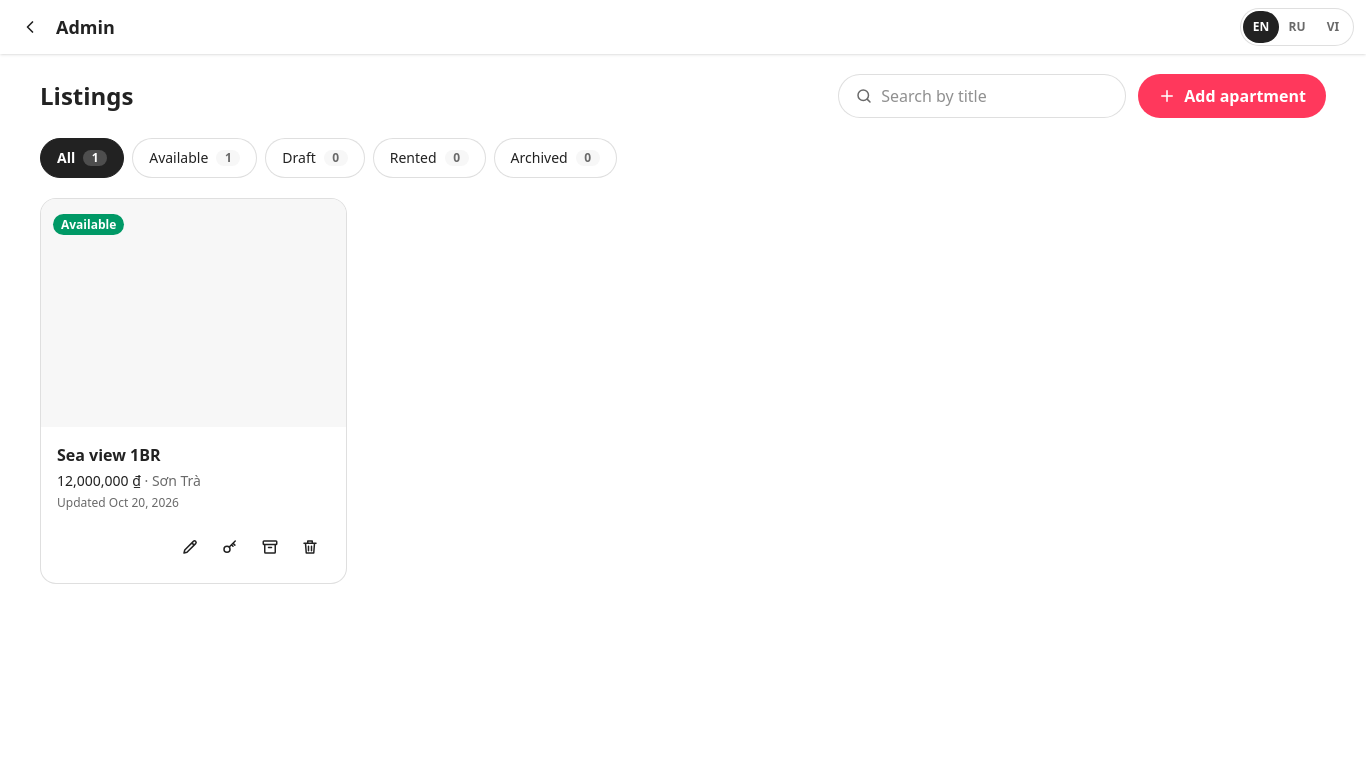
it: dashboard › changes availability with confirmation
Click the button named "Mark as rented".
click(230, 547)  # box [210,527,250,567]
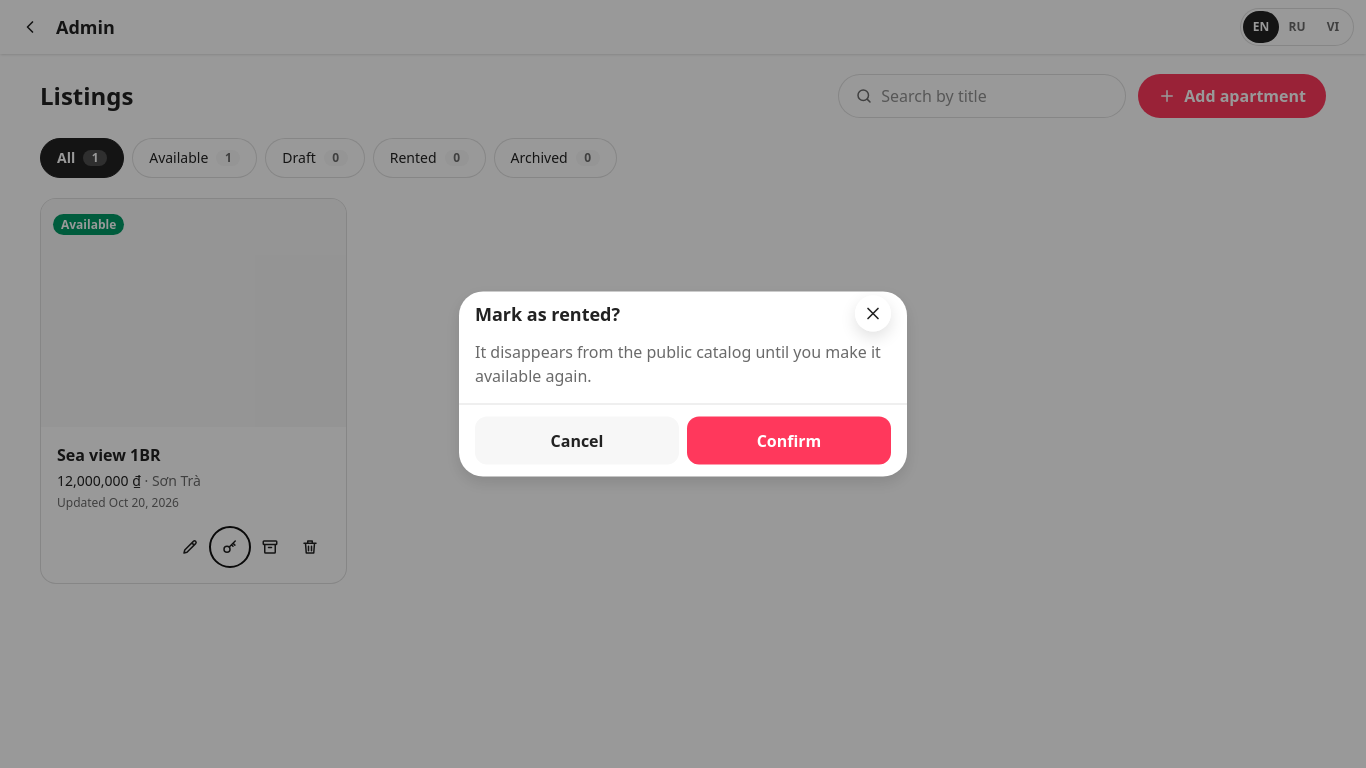
Click the button "Confirm".
click(789, 440)  # box [687,416,891,464]
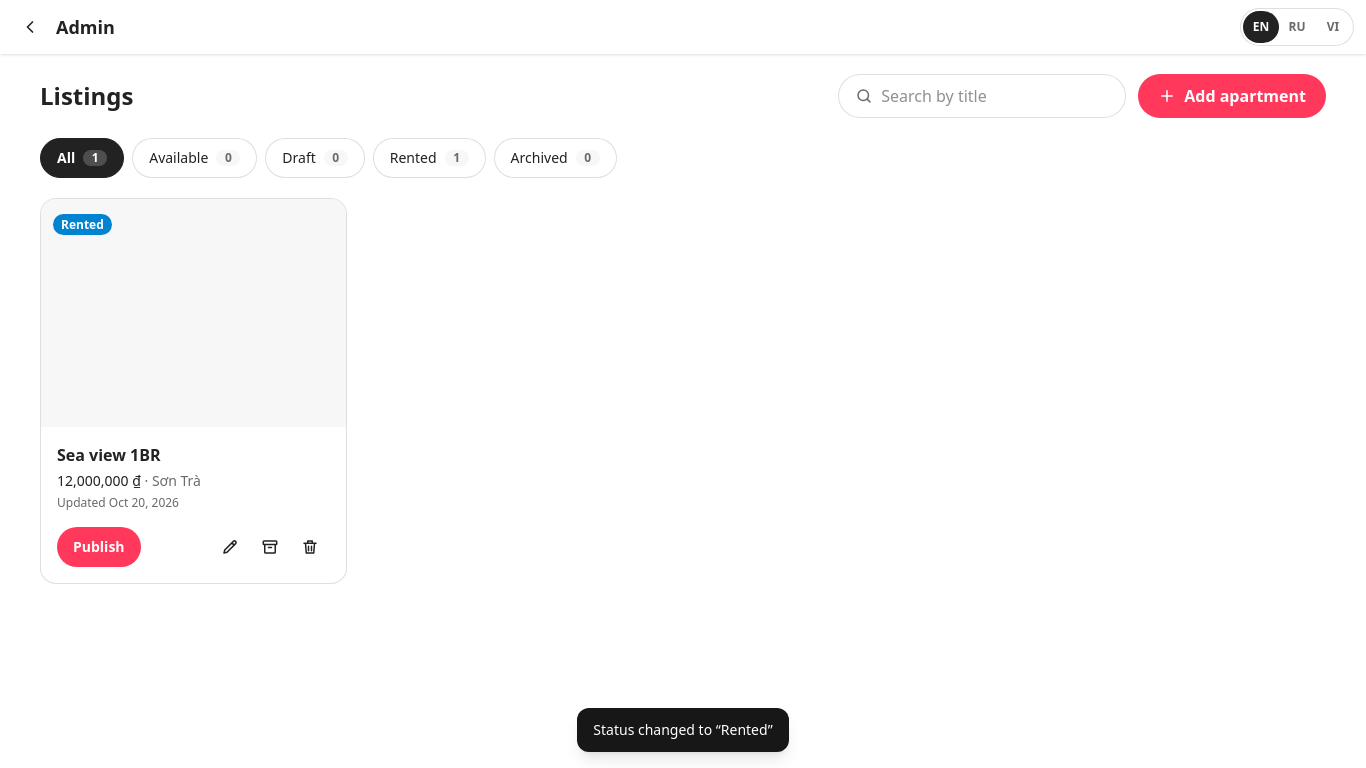
Expected: the text "Status changed to “Rented”" is shown, [577,708,789,752]
Expected: the button "Publish" is shown, [57,527,141,567]
Expected: the heading "Mark as rented" is gone
